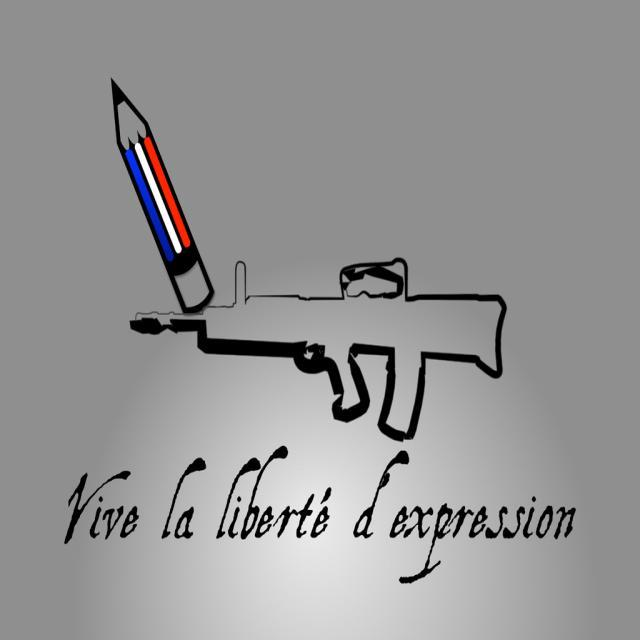weapon: (139, 262, 504, 437)
